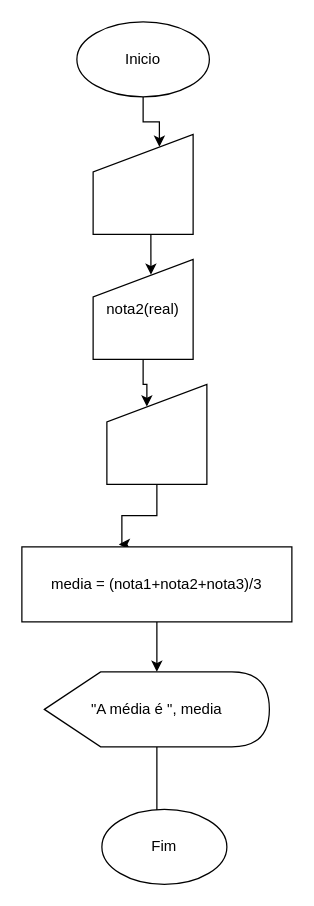
The diagram is 314 pixels wide and 906 high, and some of its shapes have lost their labels. Here are the shapes that lost their labels. From the top down, the centre of each, then its label:
At (142,183): "nota1(real)".
At (156,433): "nota3(real".
